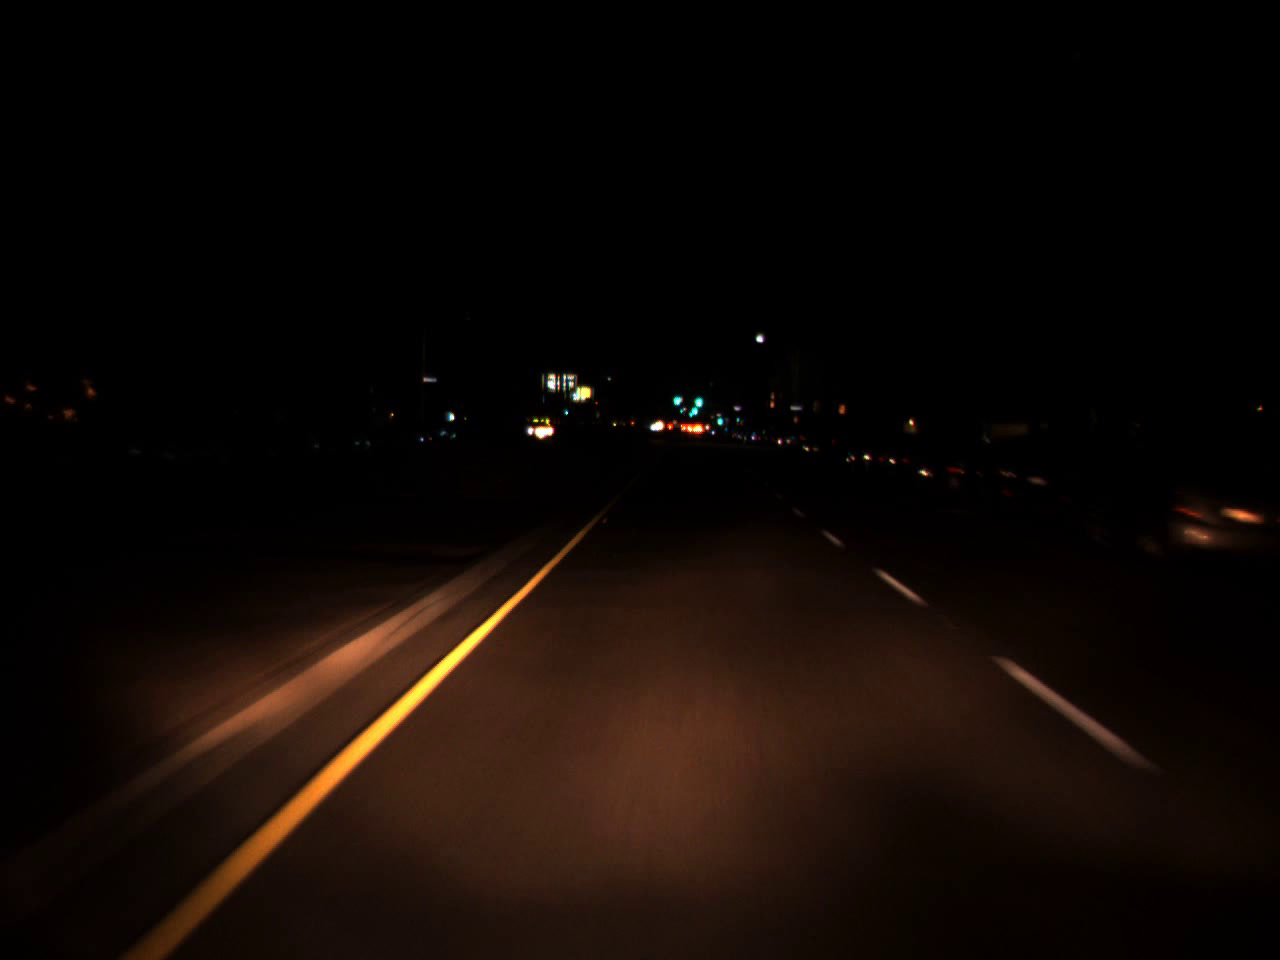go: (686, 396, 698, 419), (671, 387, 681, 408), (692, 389, 703, 407), (716, 411, 723, 426)
